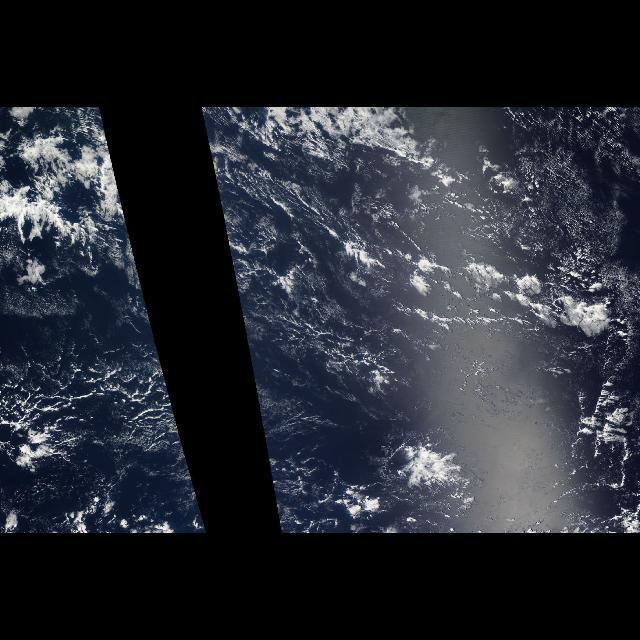Gravel: (1, 333, 196, 485)
Sugar: (474, 107, 640, 287)
